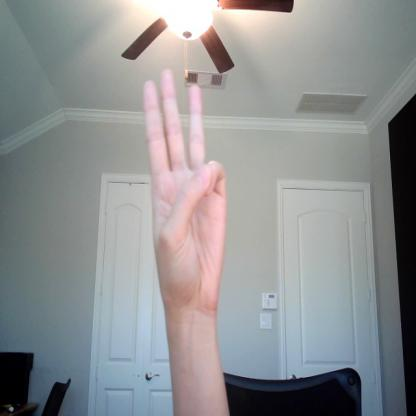six: (144, 70, 231, 304)
